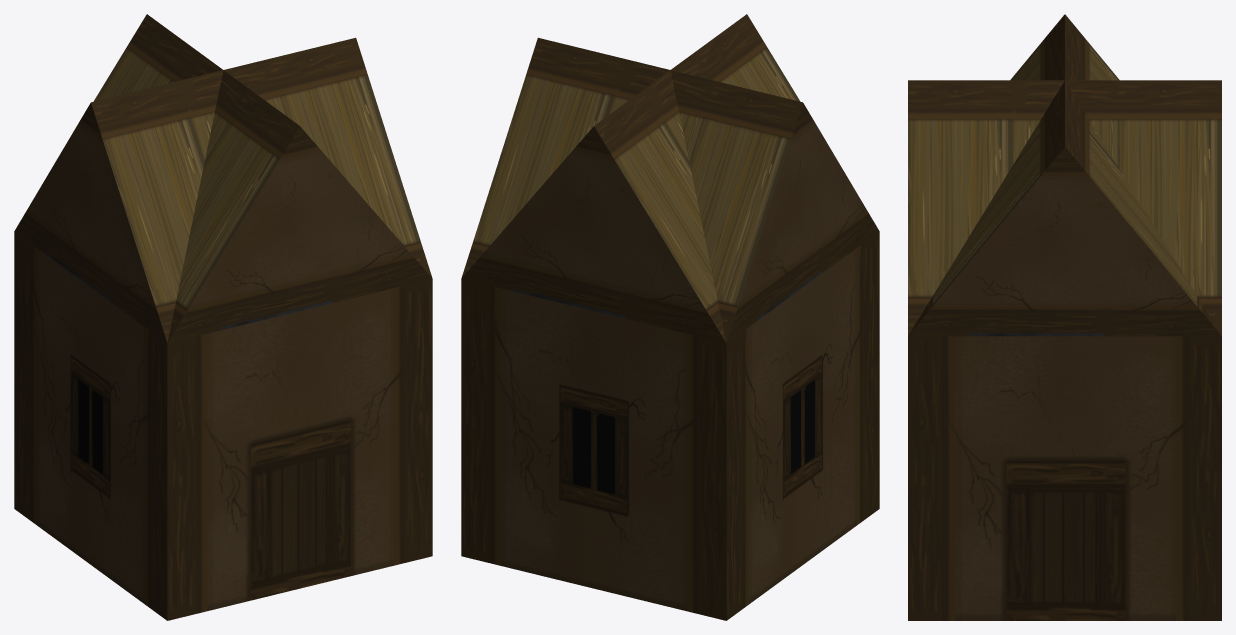
File: dom_dachx2.FBX
The picture shows the model from 3 angles, left to right: view 1: azimuth 30°, elevation 25°; view 2: azimuth 150°, elevation 25°; view 3: azimuth 270°, elevation 25°; orthographic projection. The views are drawn at different scales.
Visible parts, largest first — view 1: Box006; view 2: Box006; view 3: Box006.
Boxes of the visible parts, <box> form: Box006: <box>14,14,432,620</box>; Box006: <box>461,14,879,620</box>; Box006: <box>908,14,1221,620</box>.
Size of the model in its own units: 6 by 10 by 6.
Materials: 1 (1 with a texture image).
